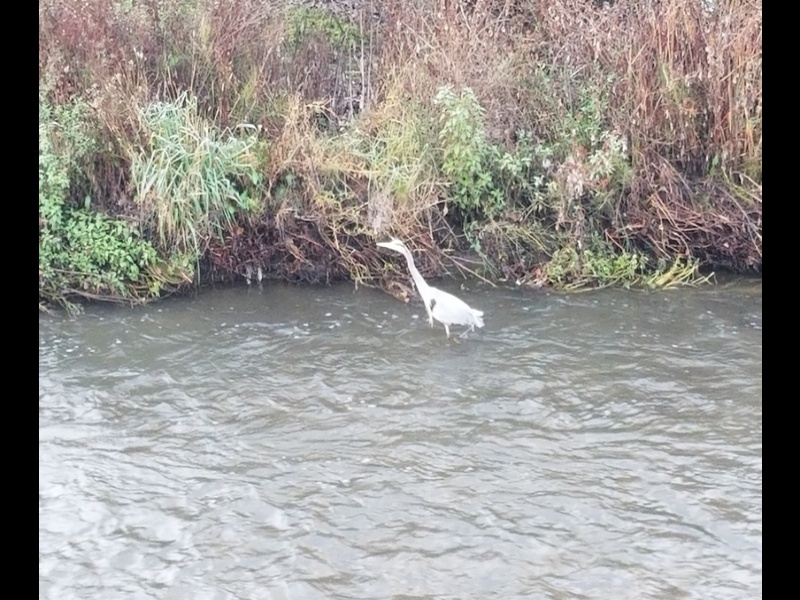heron: (376, 237, 486, 332)
